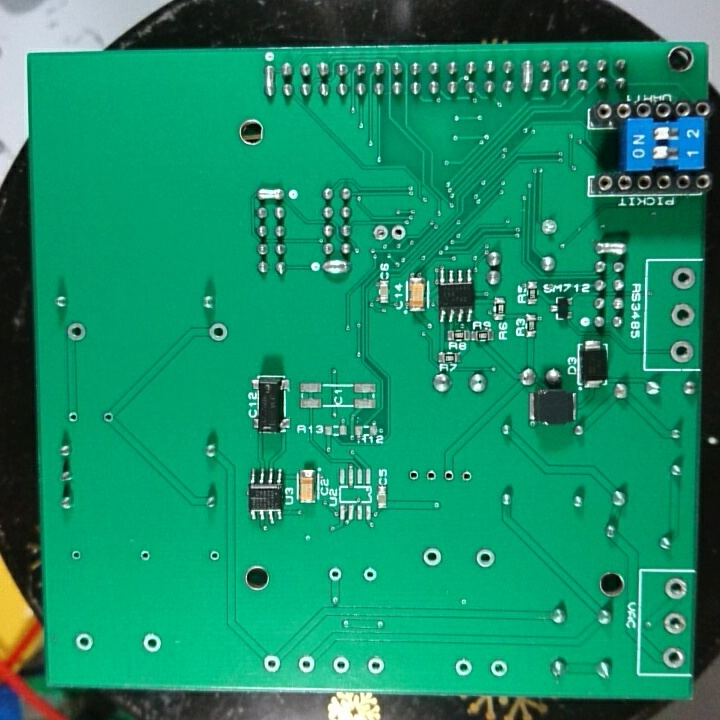F: (669, 337, 696, 369), (663, 576, 691, 606), (670, 300, 696, 332), (661, 609, 687, 639), (419, 543, 444, 572), (64, 319, 89, 347), (472, 545, 497, 572), (672, 266, 696, 293), (206, 320, 231, 345), (140, 630, 163, 656), (73, 629, 95, 656), (364, 654, 388, 678), (661, 646, 684, 671), (330, 654, 351, 678), (389, 221, 409, 246), (539, 216, 559, 241), (489, 658, 510, 681), (453, 657, 474, 680), (261, 652, 282, 675), (370, 222, 390, 244), (298, 654, 317, 676), (405, 465, 423, 486), (361, 566, 379, 586), (459, 466, 475, 487), (68, 547, 86, 565), (423, 467, 439, 486), (327, 565, 342, 585), (441, 468, 456, 486), (137, 548, 152, 566), (65, 409, 80, 426), (102, 409, 116, 427), (207, 547, 221, 563)
P: (593, 238, 628, 258), (321, 259, 351, 277), (262, 63, 276, 100), (520, 58, 533, 96), (255, 186, 285, 202)
